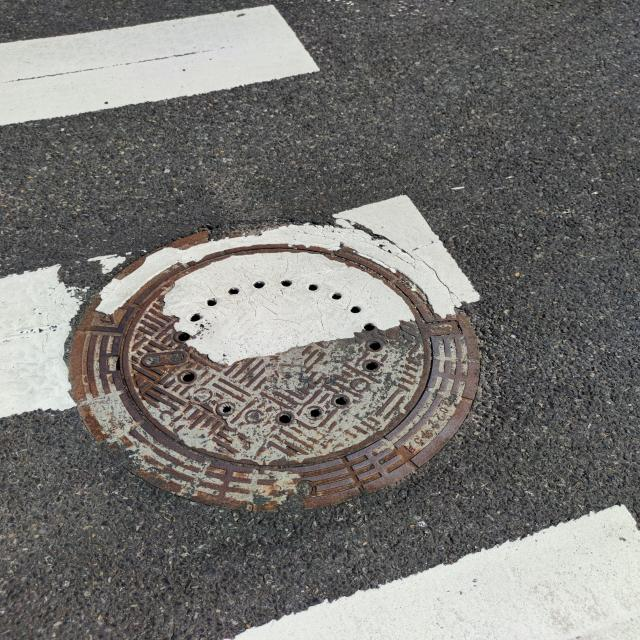Good: (58, 214, 493, 517)
